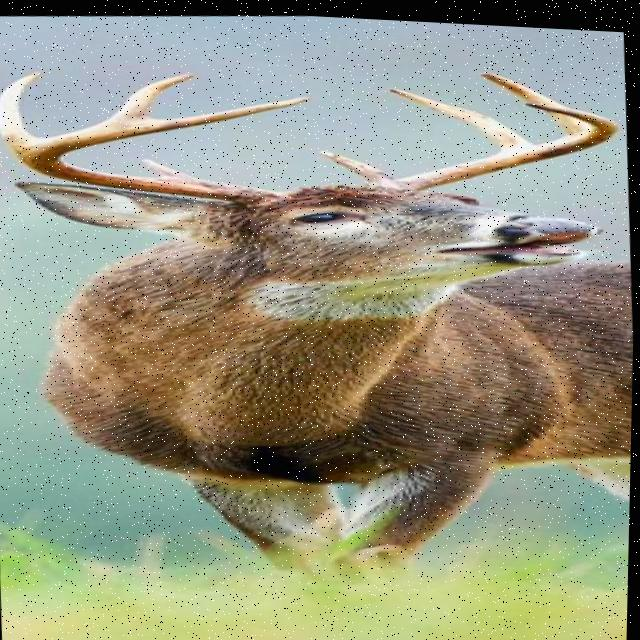L-F: (359, 96, 622, 187)
L-G1: (316, 146, 400, 180)
L-G2: (386, 84, 538, 149)
R-F: (16, 93, 316, 203)
R-G1: (139, 157, 208, 178)
R-G2: (0, 70, 48, 153)
R-G3: (108, 71, 197, 118)
